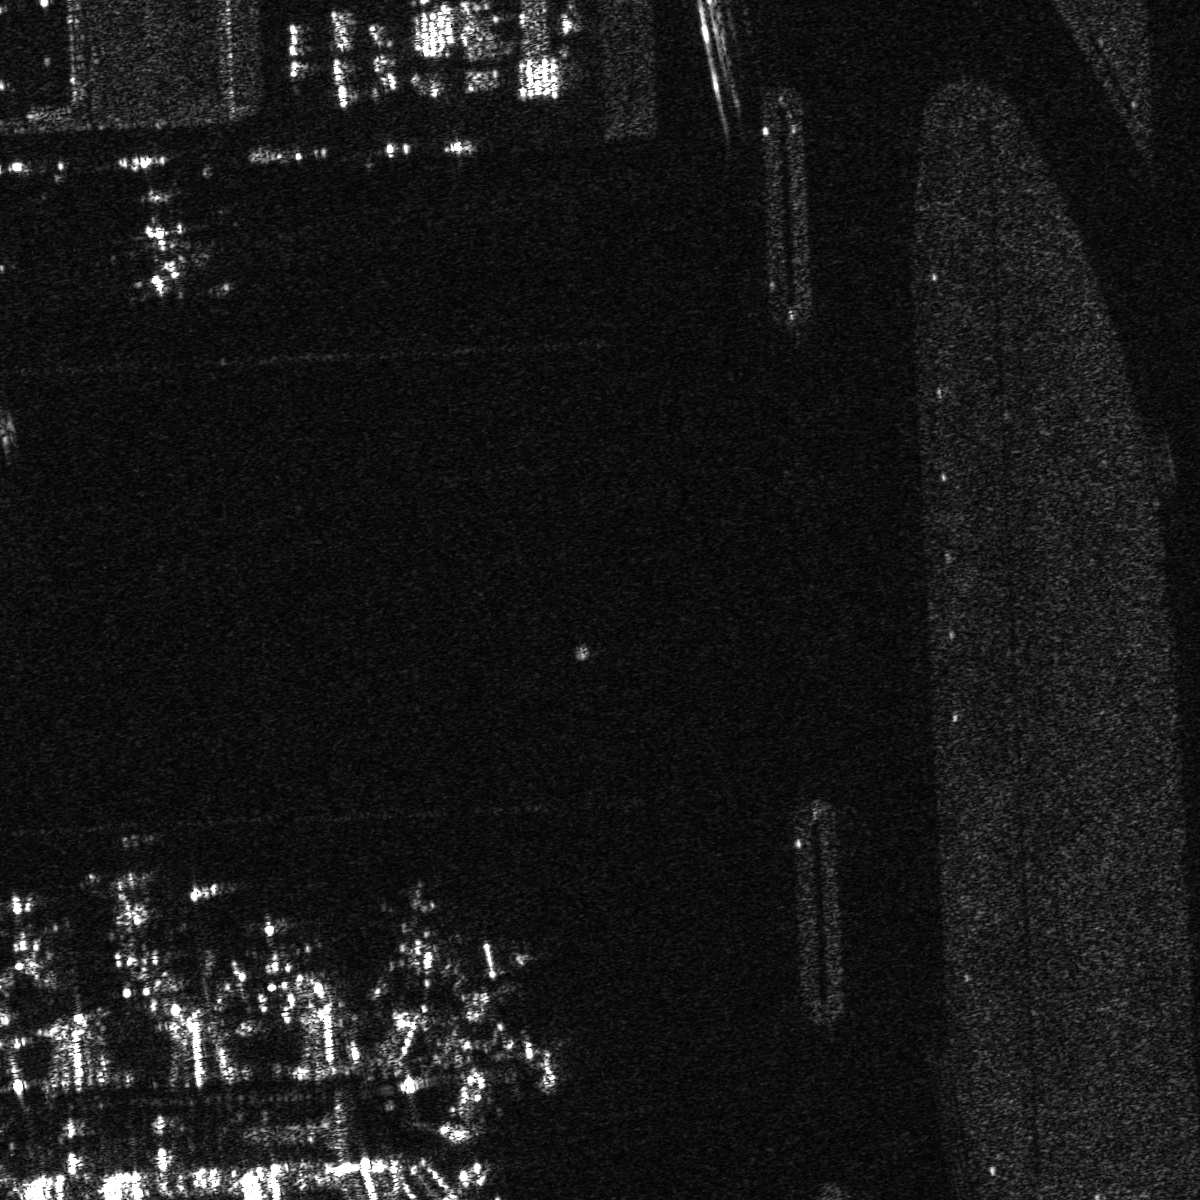A320/321: (93, 862, 186, 1007), (229, 908, 342, 997), (370, 887, 460, 986)
other: (111, 204, 227, 309), (1, 882, 89, 1003)
